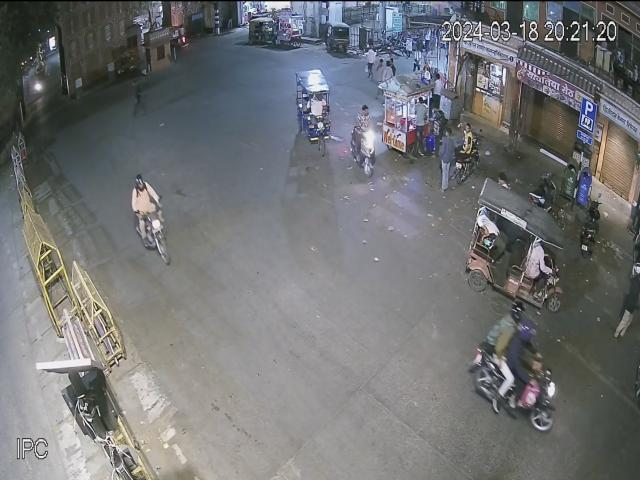auto: (469, 175, 567, 315), (296, 70, 334, 150), (323, 22, 351, 56), (248, 17, 276, 46)
helmet: (508, 307, 532, 326), (133, 175, 146, 194)
motorbike-rider: (475, 310, 555, 430), (130, 173, 168, 269), (349, 106, 378, 176), (450, 125, 481, 188)
no_helmet: (359, 104, 371, 114)
person: (439, 126, 454, 195)
scooty: (580, 190, 606, 258)
vendor: (382, 94, 436, 162)
